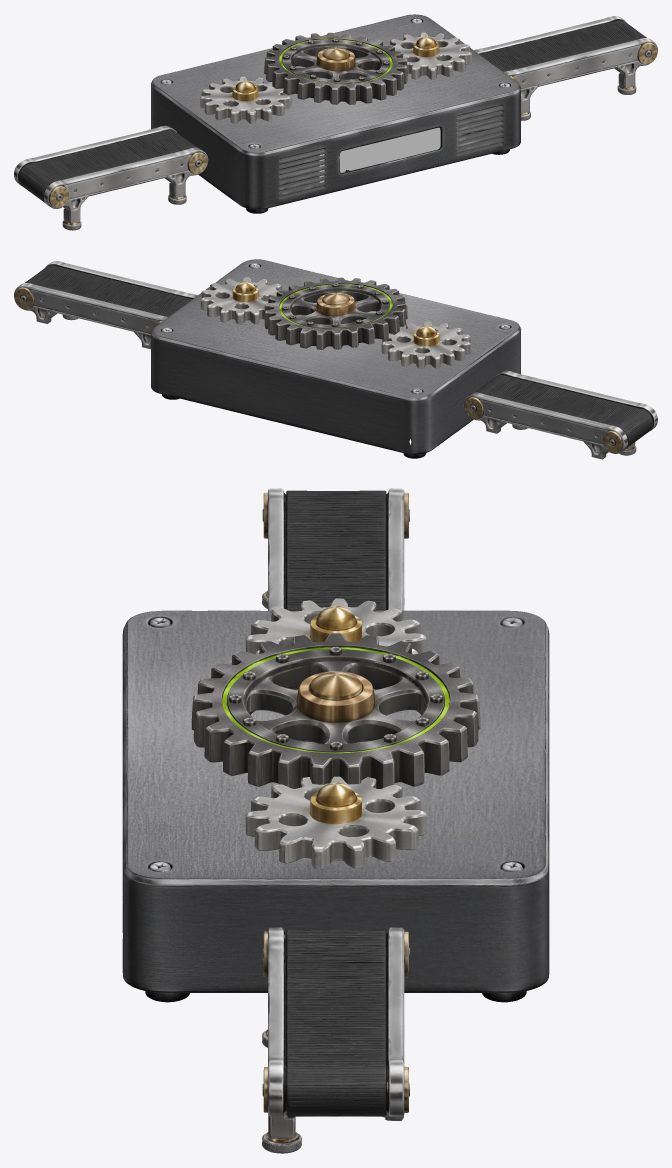
The model's file is gears.glb.
The picture shows the model from 3 angles, top to bottom: view 1: azimuth 30°, elevation 25°; view 2: azimuth 150°, elevation 25°; view 3: azimuth 270°, elevation 25°; orthographic projection. The views are drawn at different scales.
Visible parts, largest first — view 1: n_housing, n_belt_l, n_belt_r, gear_big_mesh, gear_small_mesh_2, gear_small_mesh, display_screen; view 2: n_housing, n_belt_l, gear_big_mesh, n_belt_r, gear_small_mesh_2, gear_small_mesh; view 3: n_housing, gear_big_mesh, n_belt_r, n_belt_l, gear_small_mesh, gear_small_mesh_2.
Part boxes in pixels (box(x1,y1,x2,y2)): n_housing: box(151, 14, 520, 213); n_belt_l: box(14, 125, 208, 230); n_belt_r: box(474, 16, 657, 120); gear_big_mesh: box(264, 32, 407, 104); gear_small_mesh_2: box(200, 76, 291, 123); gear_small_mesh: box(385, 32, 471, 79); display_screen: box(319, 122, 457, 182); n_housing: box(151, 259, 521, 458); n_belt_l: box(463, 370, 657, 459); gear_big_mesh: box(264, 277, 407, 349); n_belt_r: box(14, 261, 197, 349); gear_small_mesh_2: box(381, 321, 470, 368); gear_small_mesh: box(200, 277, 285, 324); n_housing: box(122, 610, 549, 1002); gear_big_mesh: box(191, 633, 480, 788); n_belt_r: box(262, 927, 409, 1153); n_belt_l: box(262, 488, 409, 610); gear_small_mesh: box(245, 776, 426, 869); gear_small_mesh_2: box(245, 598, 426, 654).
Bounding box in the file's own units: 10.96 × 1.71 × 3.31.
7 materials, 4 textured.
